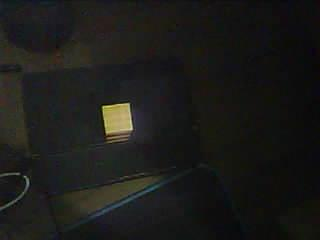lego: (100, 103, 134, 144)
